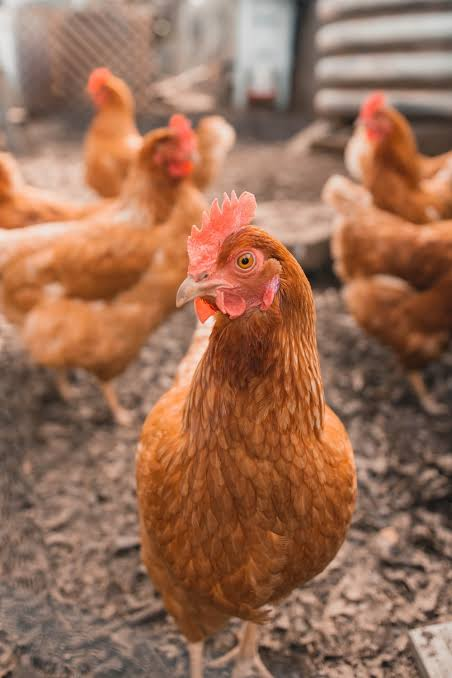nontarget: (155, 200, 360, 639)
